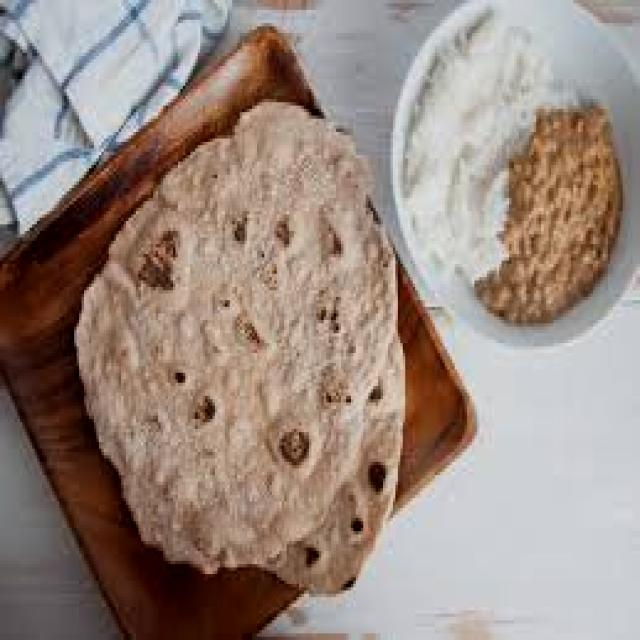chapathi: (74, 102, 400, 596)
